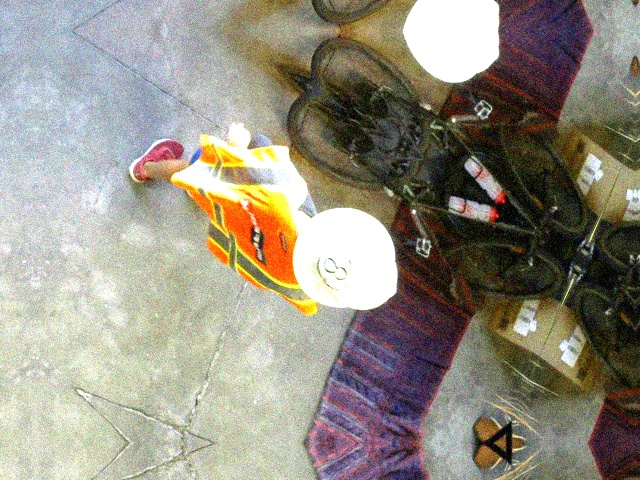eight: (310, 240, 358, 296)
